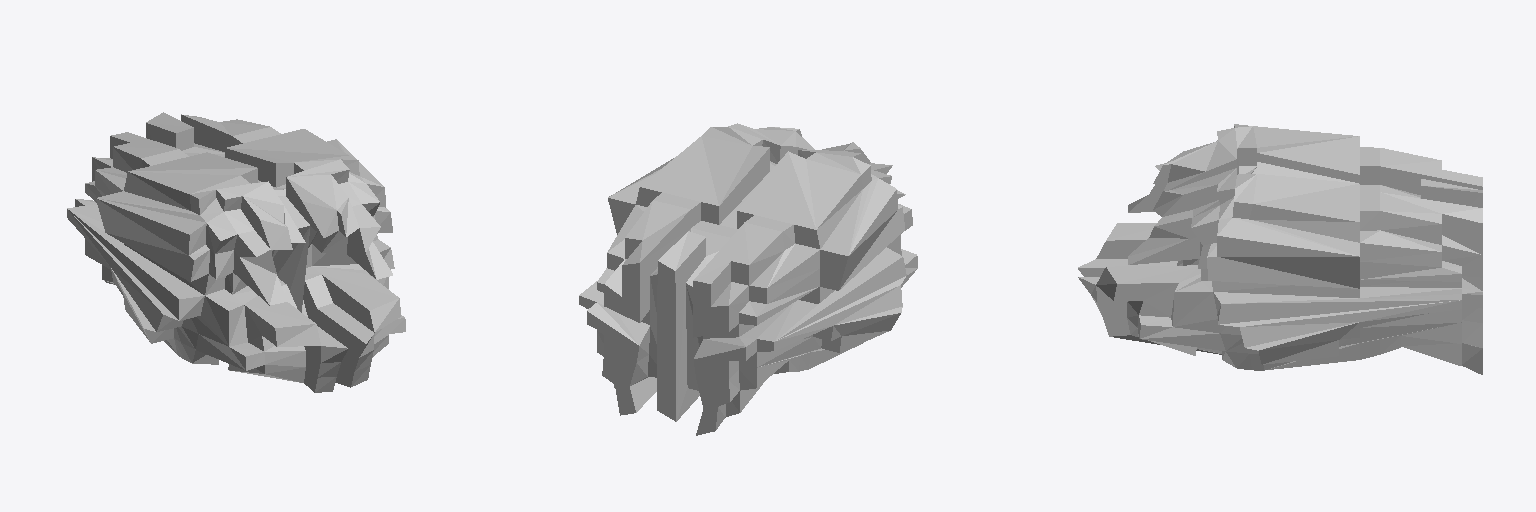
The model's file is Laser_Orientator_LOD0-1.obj.
3 renders of one model, left to right at view 1: azimuth 30°, elevation 25°; view 2: azimuth 150°, elevation 25°; view 3: azimuth 270°, elevation 25°, orthographic.
Visible parts, largest first — view 1: Laser_Orientator_LOD0-1; view 2: Laser_Orientator_LOD0-1; view 3: Laser_Orientator_LOD0-1.
Boxes of the visible parts, x1=… form: Laser_Orientator_LOD0-1: x1=67, y1=112, x2=405, y2=392; Laser_Orientator_LOD0-1: x1=579, y1=123, x2=917, y2=435; Laser_Orientator_LOD0-1: x1=1078, y1=124, x2=1482, y2=374.
Bounding box in the file's own units: 1.38 × 1.06 × 1.98.